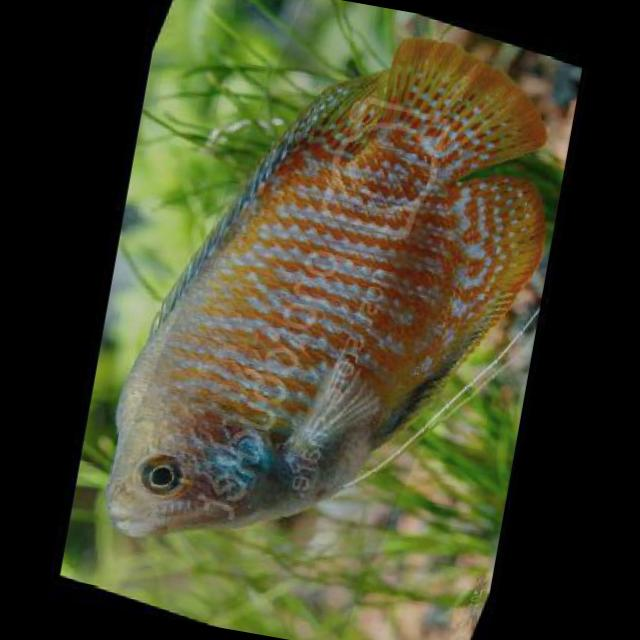Gourami: (97, 0, 580, 589)
